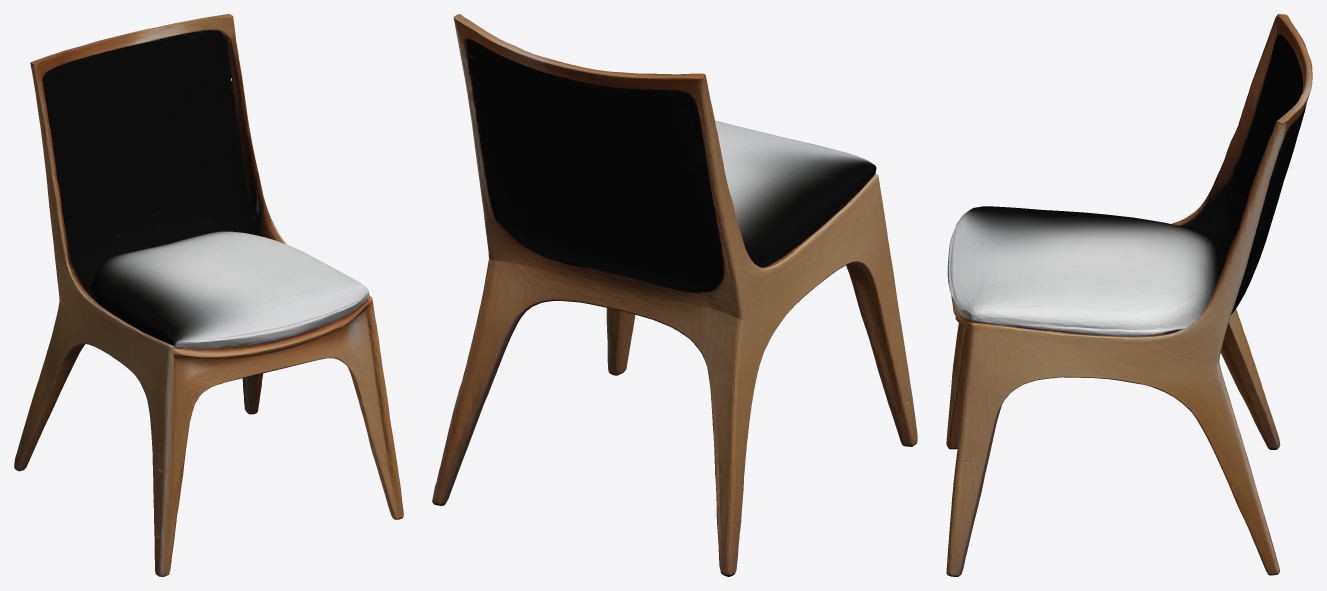
Rendered from krzesło_1.glb.
3 renders of one model, left to right at view 1: azimuth 30°, elevation 25°; view 2: azimuth 150°, elevation 25°; view 3: azimuth 270°, elevation 25°, orthographic. The views are drawn at different scales.
Parts seen in each view (by area): view 1: world; view 2: world; view 3: world.
Part boxes in pixels (bbox=[...]): world: bbox=[14, 14, 403, 576]; world: bbox=[432, 14, 917, 576]; world: bbox=[946, 14, 1312, 576].
Bounding box in the file's own units: 0.6435 × 1 × 0.749.
1 material, 1 textured.
